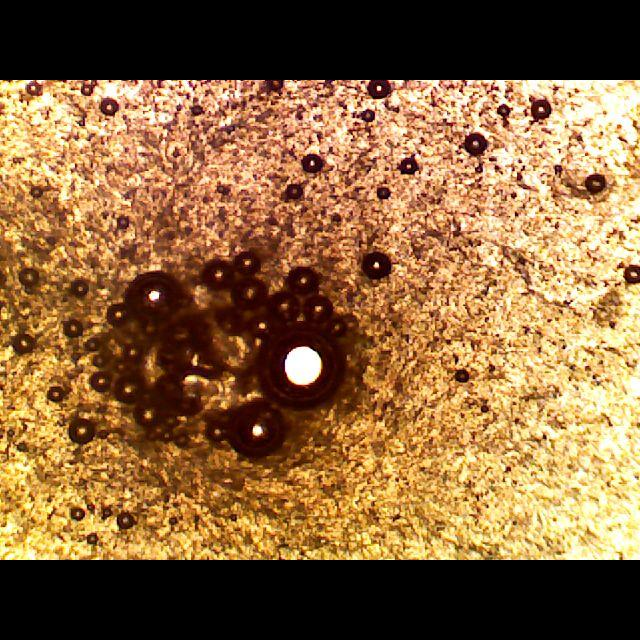microbeads: (252, 328, 346, 410), (220, 401, 290, 462), (128, 272, 188, 328), (230, 276, 268, 312), (266, 291, 302, 329), (199, 261, 237, 293), (283, 264, 321, 296), (128, 402, 168, 431), (302, 293, 336, 327), (358, 251, 394, 283), (113, 377, 147, 405), (67, 418, 95, 448), (90, 364, 114, 398), (14, 264, 42, 290), (234, 253, 264, 277), (106, 300, 128, 328), (12, 333, 36, 357), (59, 318, 85, 340), (68, 278, 92, 298), (44, 384, 66, 404)
